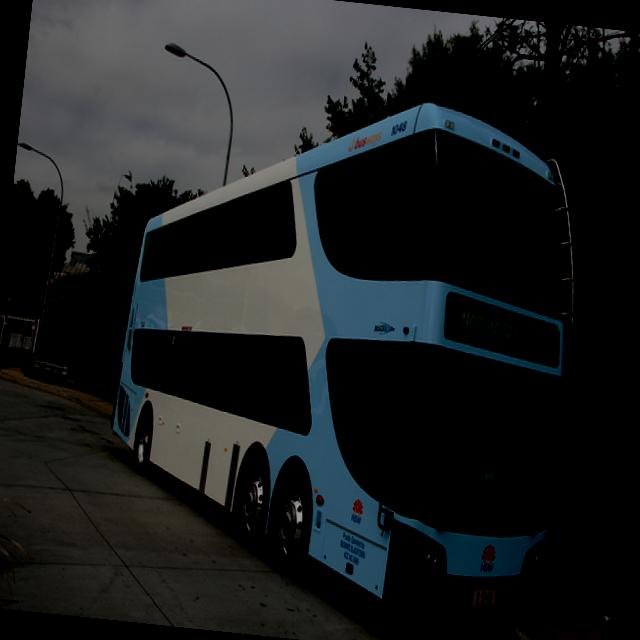Vehicle: (97, 71, 593, 632)
